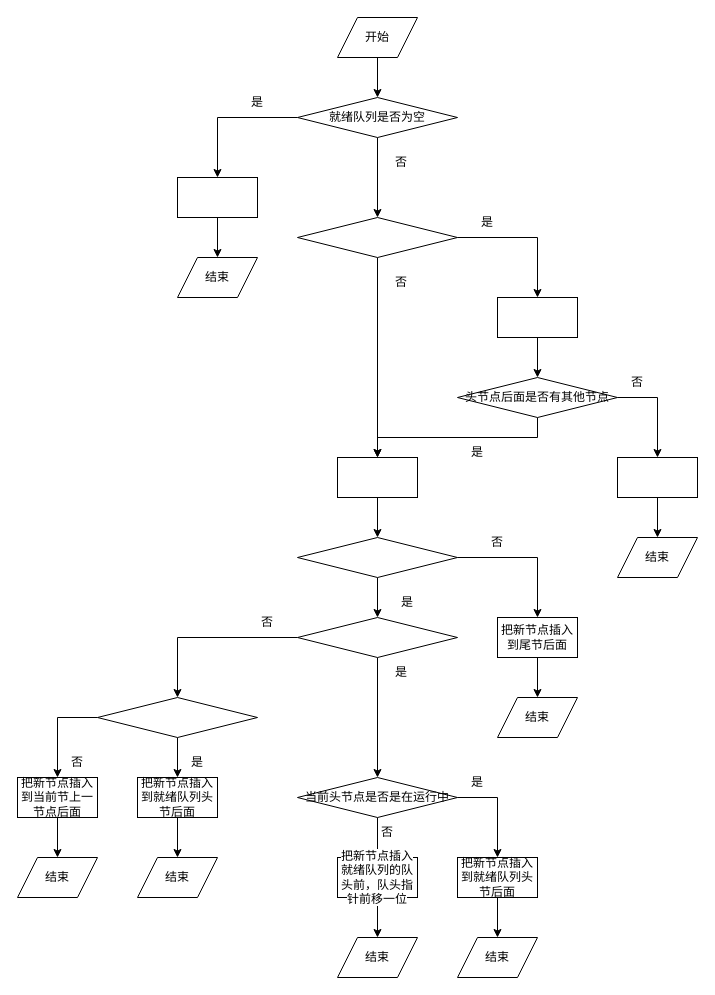
This 715x995 diagram has some shape labels left out. Here are the shapes that lost their labels. From the top down, the box of each, then its label:
(176, 176, 258, 218): 插入就绪队列,就绪队列头尾指向头节点
(296, 216, 458, 258): 就绪队列头节点是否在运行
(496, 296, 578, 338): 跳过头节点，头节点不参与插入排序
(336, 456, 418, 498): 遍历队列寻找合适的位置
(616, 456, 698, 498): 把新节点插入到头节后面
(296, 536, 458, 578): 寻找到的位置当前是否有节点
(296, 616, 458, 658): 寻找到的位置是否头节点
(96, 696, 258, 738): 当前节点的上一个节点是否为空
